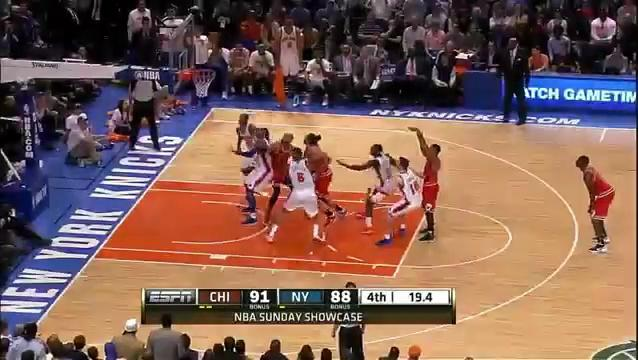Backboard: (170, 15, 193, 91)
Ball: (208, 31, 220, 44)
Basket: (192, 67, 216, 98)
Person: (270, 145, 326, 244), (338, 144, 397, 235), (376, 156, 434, 248), (574, 154, 622, 256), (234, 127, 277, 228), (408, 125, 443, 242), (301, 131, 336, 225), (266, 131, 299, 223), (235, 109, 264, 163)
Referee: (125, 74, 164, 150)
